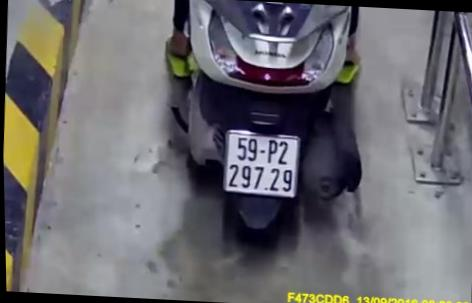LP: (219, 128, 301, 199)
